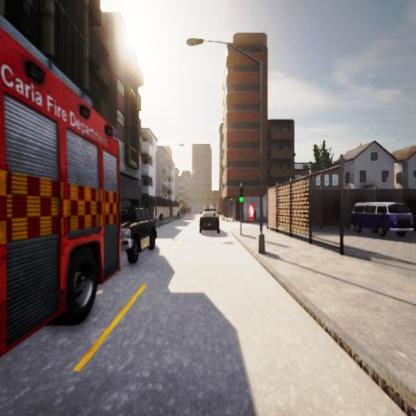vehicle: (2, 6, 144, 381), (350, 200, 414, 237), (121, 203, 158, 256), (199, 210, 220, 235)
